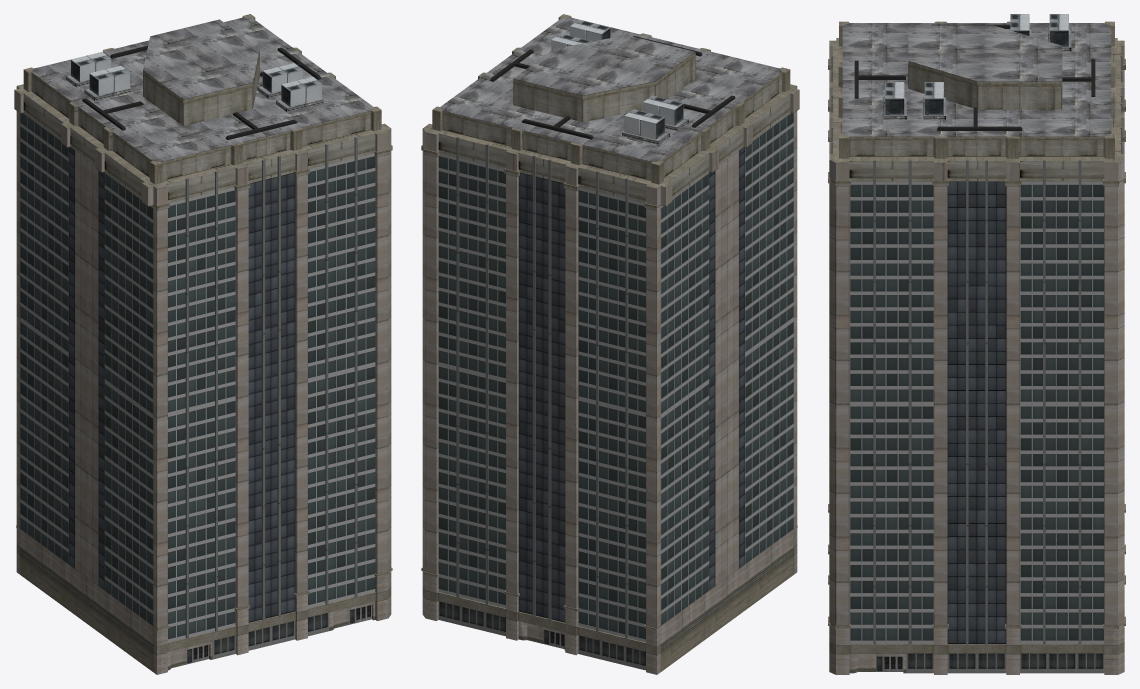
File: tutorial_building10.gltf
The picture shows the model from 3 angles, left to right: view 1: azimuth 30°, elevation 25°; view 2: azimuth 150°, elevation 25°; view 3: azimuth 270°, elevation 25°; orthographic projection. The views are drawn at different scales.
Visible parts, largest first — view 1: building10; view 2: building10; view 3: building10.
Part boxes in pixels (left/top/right/bottom): building10: left=14, top=14, right=392, bottom=674; building10: left=421, top=14, right=799, bottom=674; building10: left=828, top=14, right=1125, bottom=674.
Bounding box in the file's own units: 24.43 × 50.94 × 24.51.
3 materials, 3 textured.
